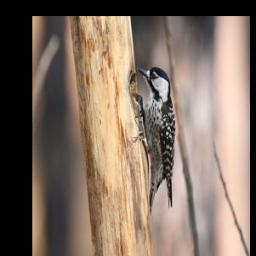Woodpecker: (131, 65, 174, 213)
